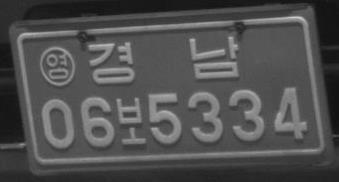0: (40, 98, 76, 150)
3: (228, 88, 266, 142), (188, 90, 224, 145)
4: (273, 86, 308, 140)
5: (148, 92, 182, 145)
6: (79, 95, 115, 149)
경남_D: (86, 34, 239, 86)
보: (116, 96, 146, 144)
영: (39, 45, 76, 87)
